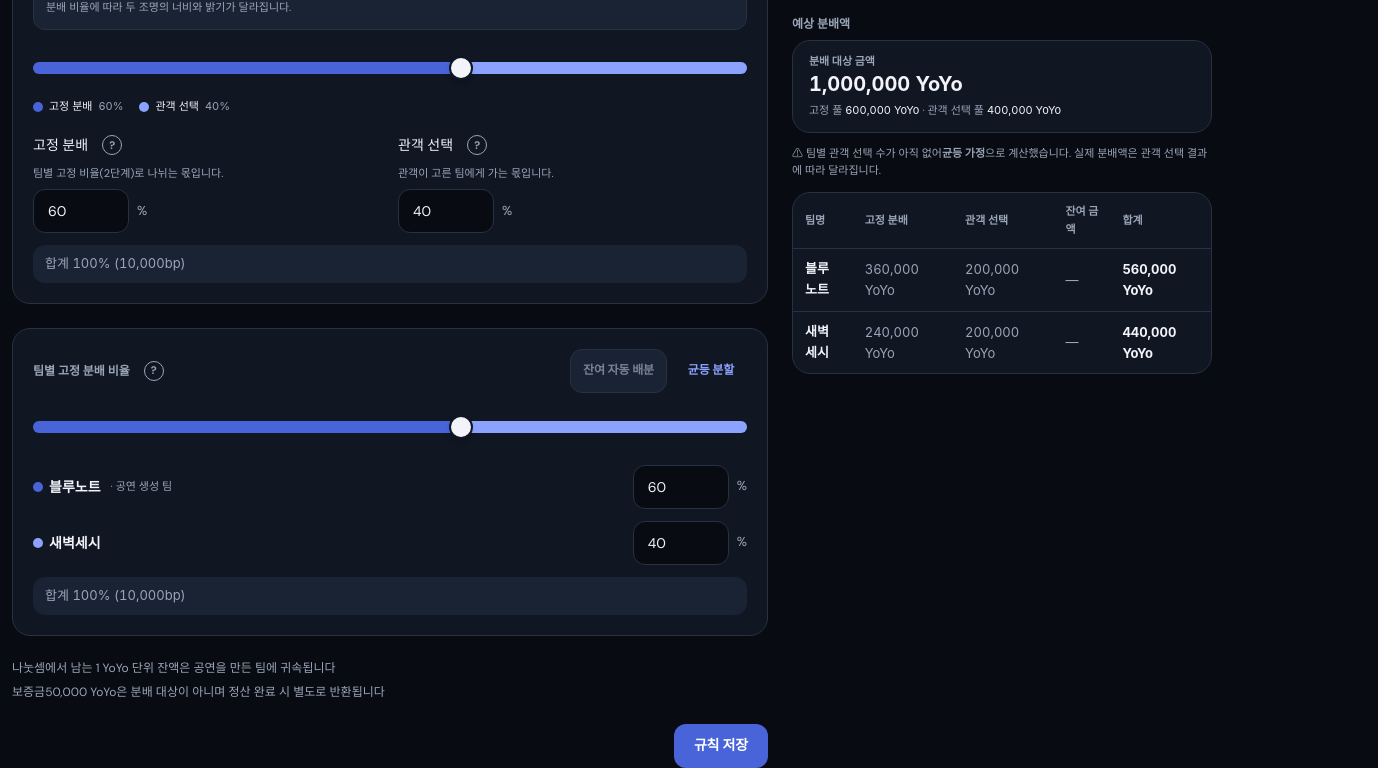
Test case: SettlementRules mobile simulation › keeps server sum errors and resets their stale-light indication on valid editing
(page scrolled)
Click the button "규칙 저장".
click(721, 746)  # box [674,724,768,767]
(page scrolled)
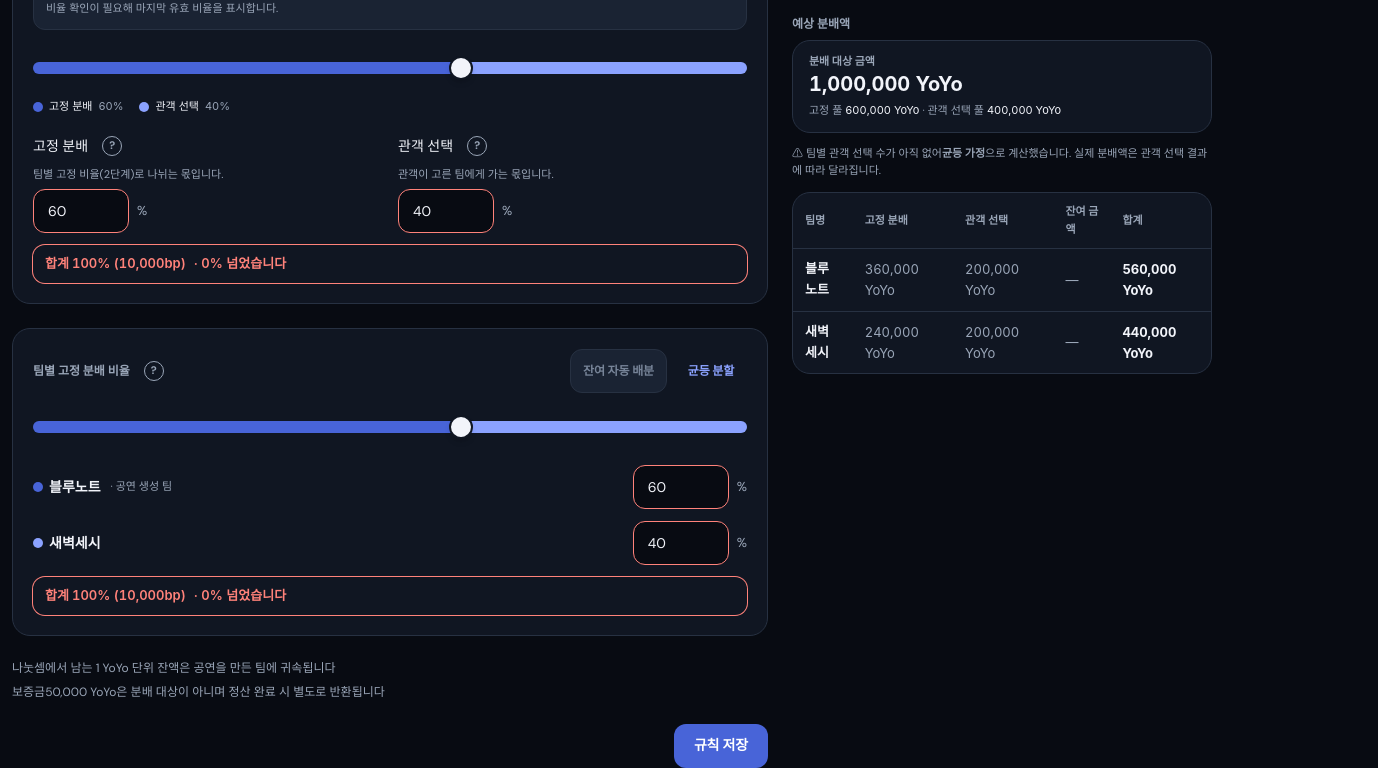
Expected: the text "비율 확인이 필요해 마지막 유효 비율을 표시합니다." is shown, [46,1,278,15]
Replace the text in the field labelled "고정 분배" with "35" at [81, 212], box [33,190,129,234]
(page scrolled)
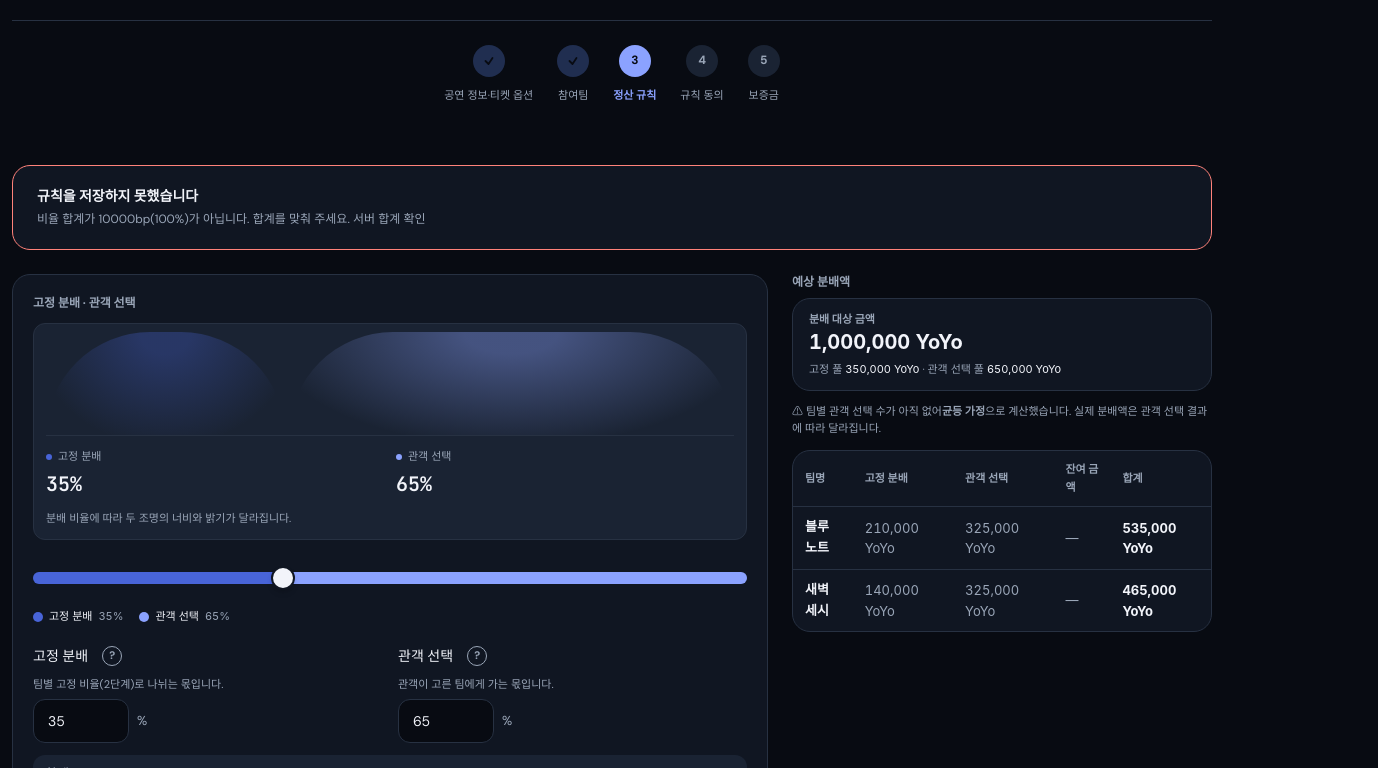
Expected: the text "마지막 유효 비율" is gone
